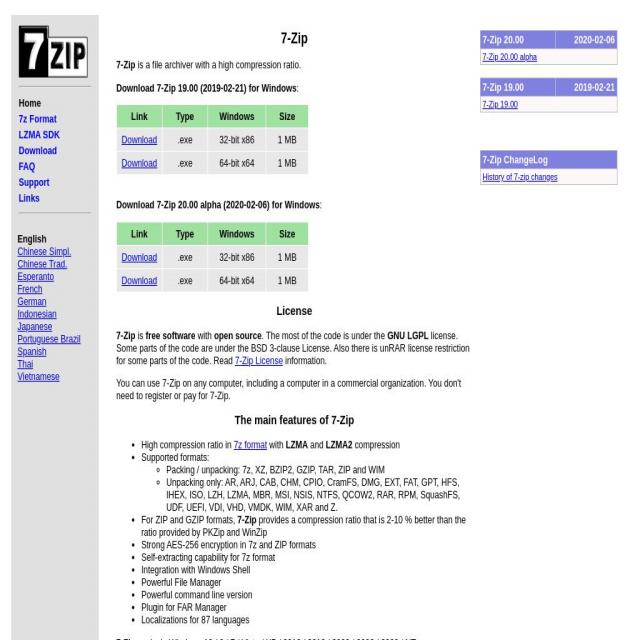download: (112, 80, 318, 298)
navigation-links: (12, 90, 86, 402)
